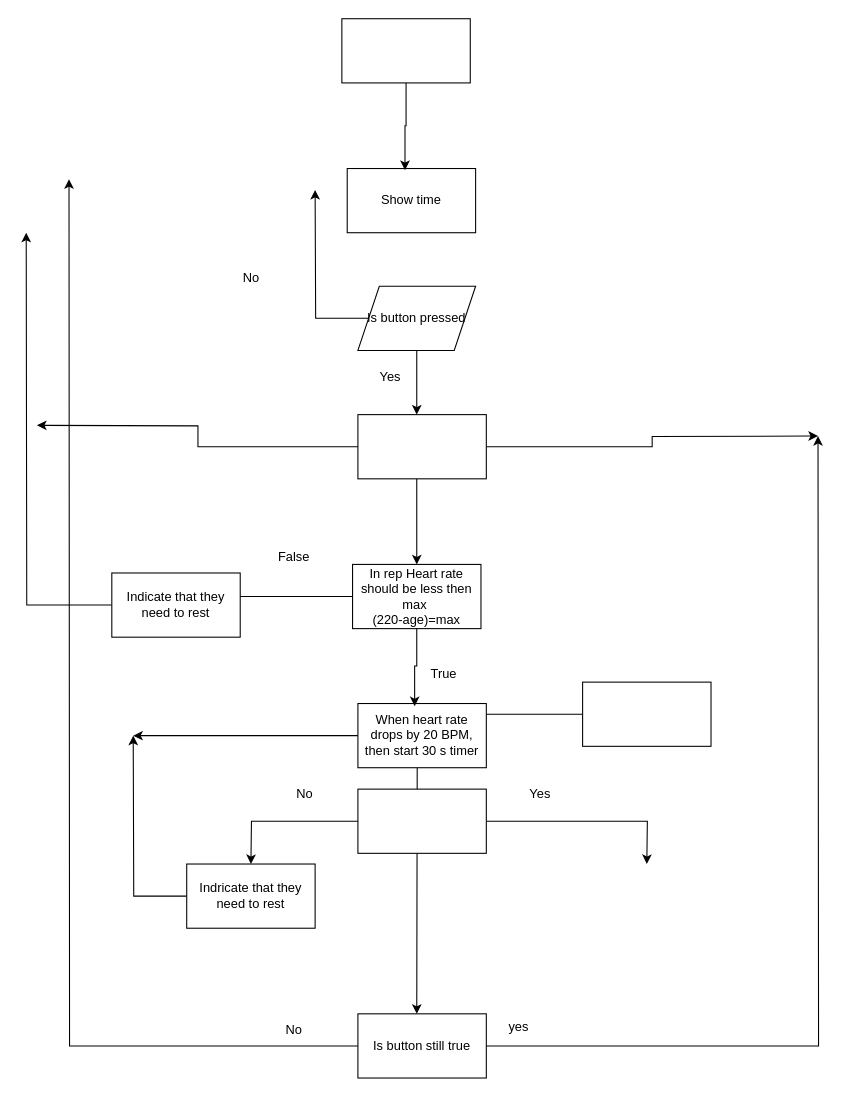
The diagram is 846 pixels wide and 1097 high, and some of its shapes have lost their labels. Each missing label, with the centre of its shape:
"Enter user's age" belongs at (x=405, y=50).
"Get the users' resting heart rate, then indicate when to start their sets" belongs at (x=421, y=446).
"Indicate that they need to start their new set." belongs at (x=646, y=713).
"Is heart rate below 90" belongs at (x=421, y=820).
